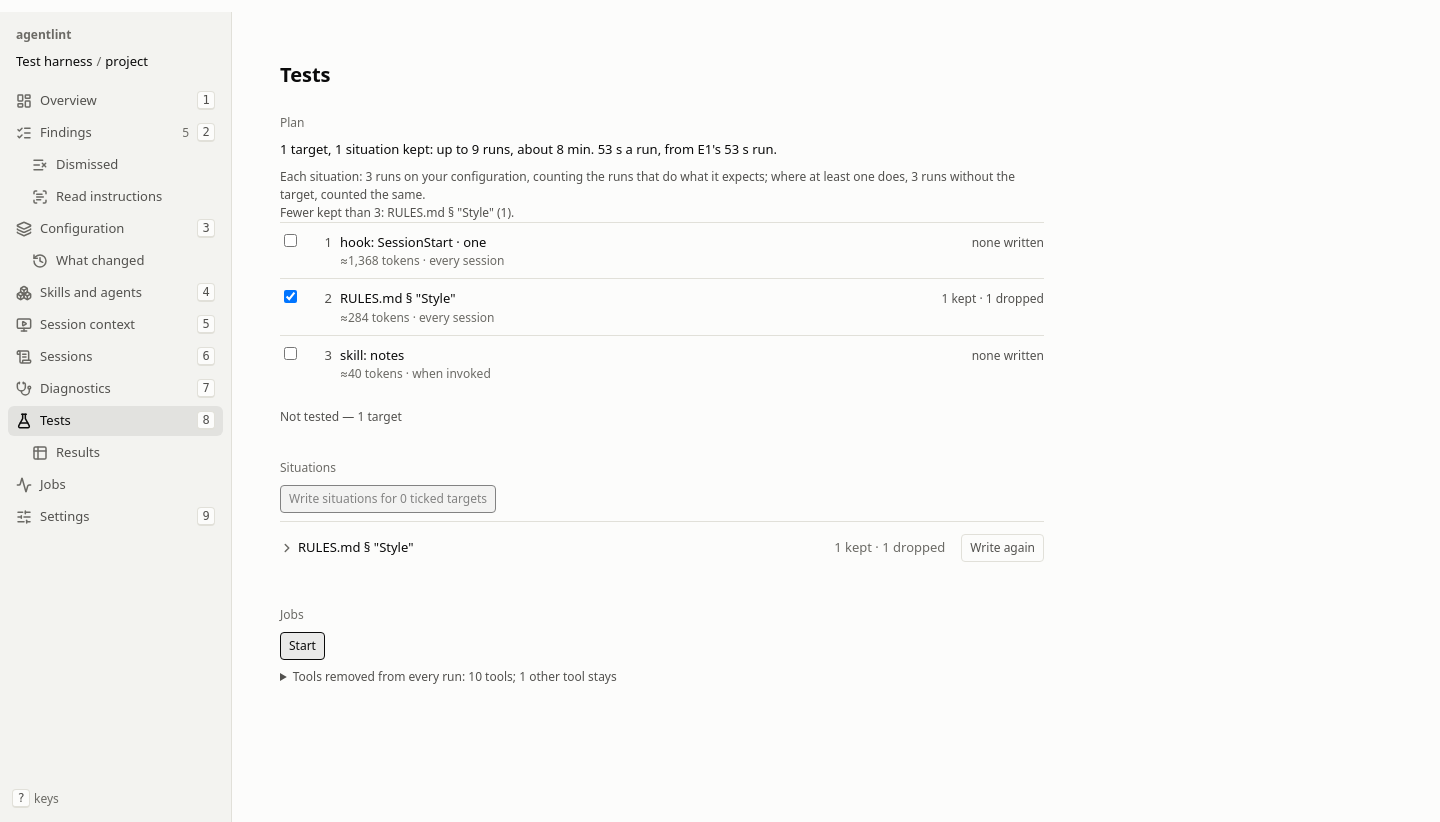
Test: the plan › after a refused tick, hides the size and holds Start disabled, saying to tick again, until a later tick is answered
Expected: the button "Start" is enabled, [280,632,325,660]
Step 1. Click the checkbox labelled "hook: SessionStart · one" → click(290, 240), box [284,234,297,246]
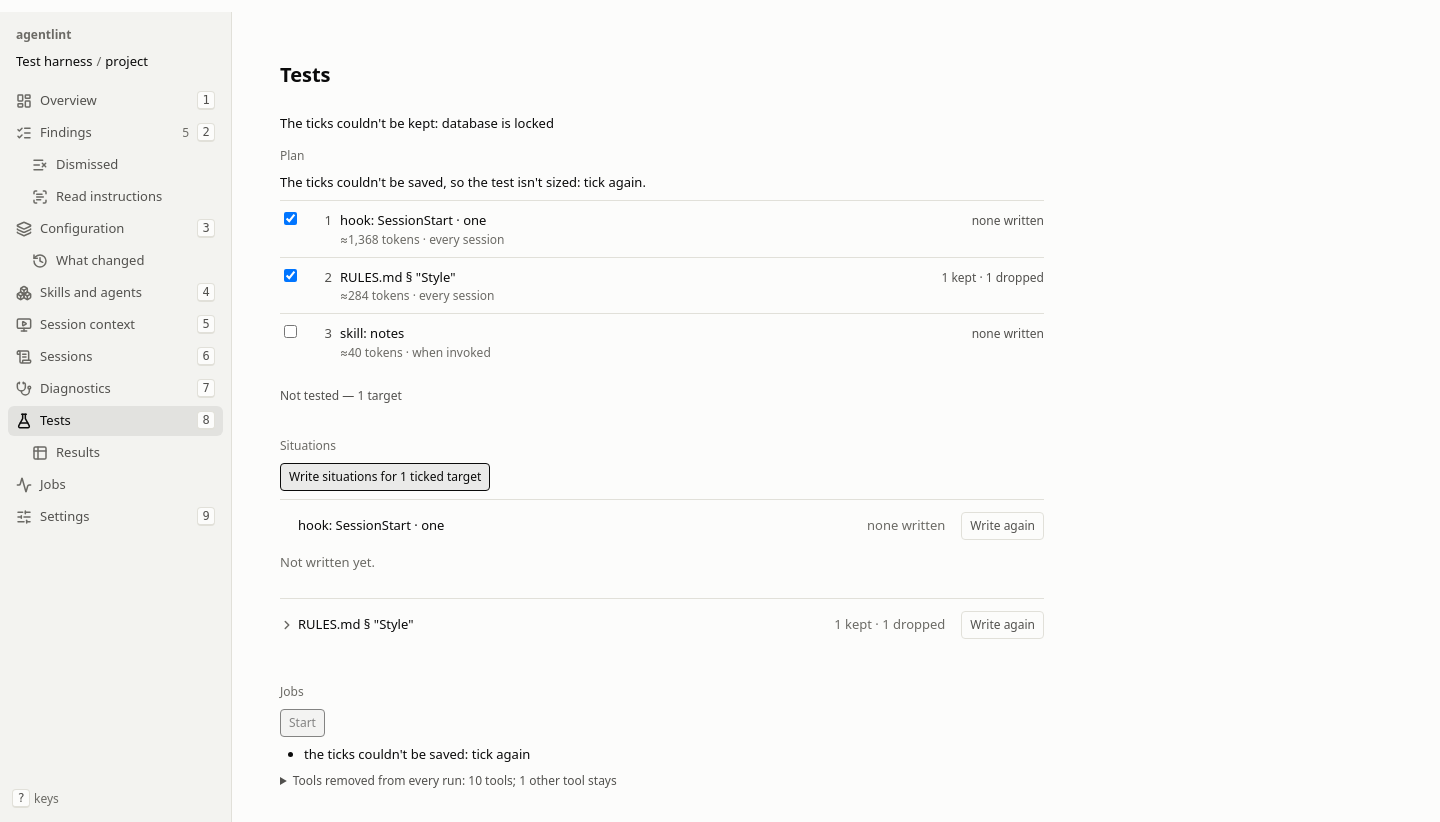
Expected: the checkbox labelled "hook: SessionStart · one" is checked, [284,212,297,225]
Expected: the text "The ticks couldn't be kept: database is locked" is shown, [280,114,554,132]
Expected: the message named "Test size" reads "The ticks couldn't be saved, so the test isn't sized: tick again.", [280,172,646,190]
Step 2. Click the checkbox labelled "skill: notes" → click(290, 332), box [284,325,297,338]
(page scrolled)
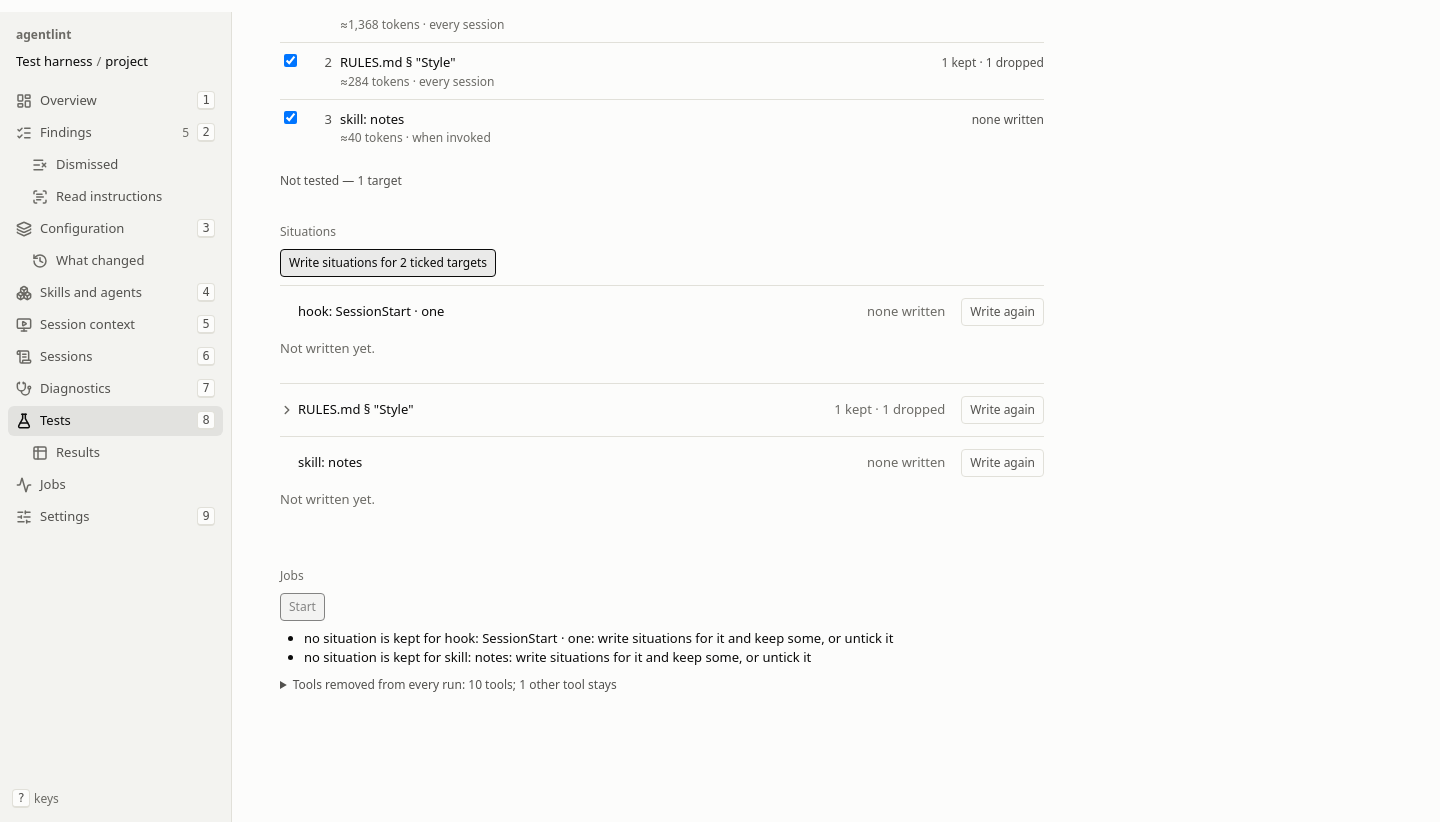
Expected: the button "Start" is disabled, [280,592,325,620]
Expected: the text "The ticks couldn't be kept" is gone
